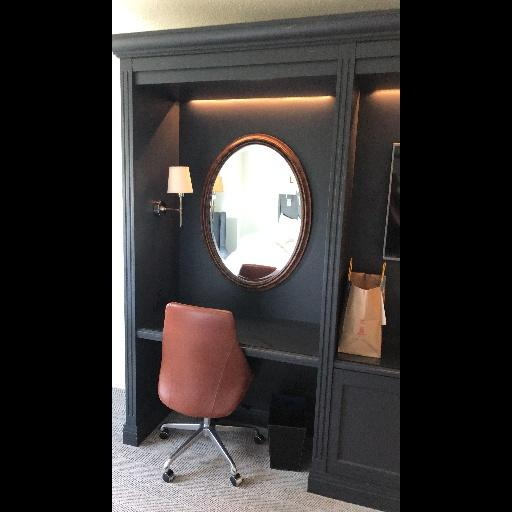chair: (153, 302, 270, 491)
clean mirror: (202, 139, 305, 289)
lamp: (162, 165, 200, 228)
